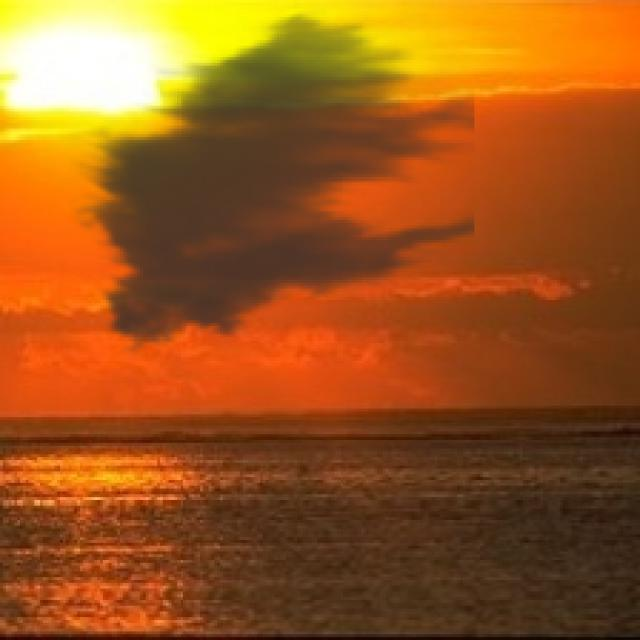smoke: (69, 3, 474, 363)
